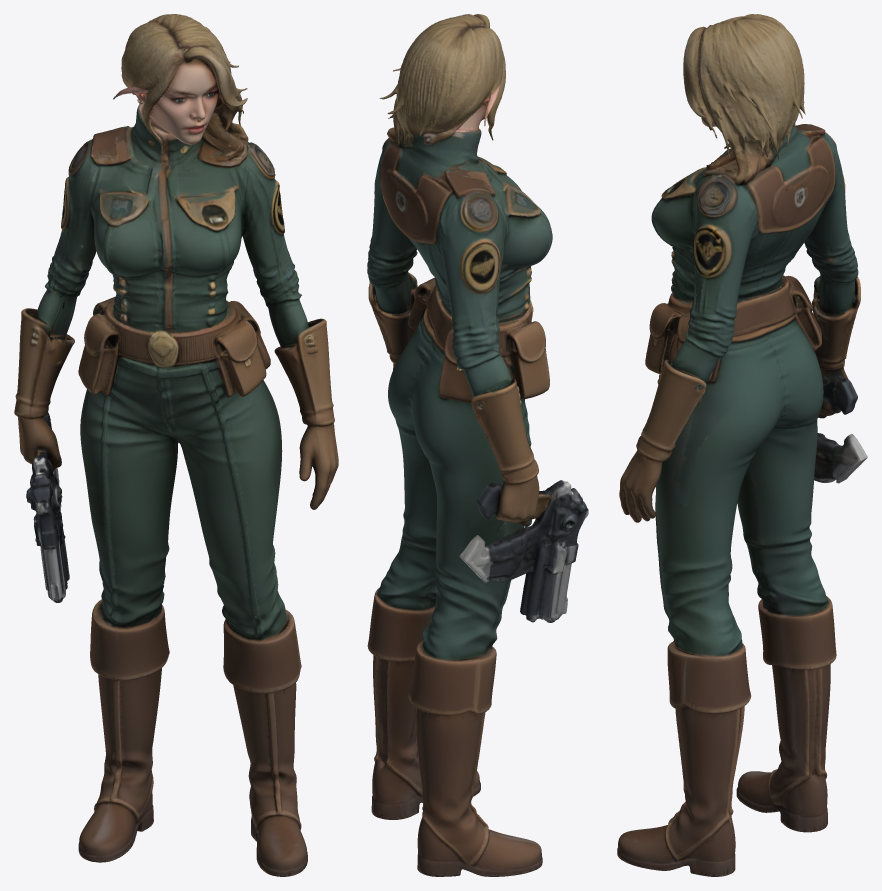
Rendered from eva.glb.
3 renders of one model, left to right at view 1: azimuth 30°, elevation 25°; view 2: azimuth 150°, elevation 25°; view 3: azimuth 270°, elevation 25°, orthographic.
Size of the model in its own units: 0.6118 by 1.9 by 0.5326.
Materials: 1 (1 with a texture image).
